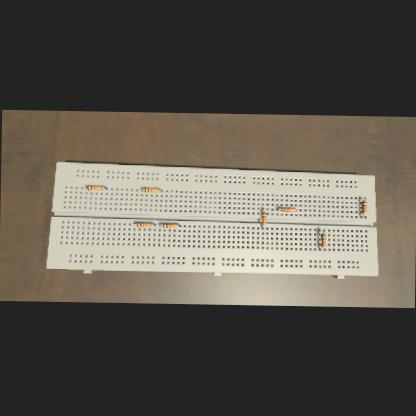breadboard: (46, 160, 380, 278)
resistor: (86, 184, 101, 190), (320, 233, 326, 247), (361, 200, 367, 213), (135, 222, 150, 226), (144, 187, 158, 191), (262, 211, 266, 225), (281, 207, 295, 210), (162, 223, 176, 226)
wire: (318, 230, 323, 233), (358, 196, 364, 198), (319, 247, 324, 249), (360, 214, 364, 216), (276, 208, 282, 209), (150, 223, 155, 224), (84, 186, 86, 188), (140, 188, 142, 190), (262, 208, 264, 210), (176, 224, 180, 225), (262, 225, 264, 227), (158, 223, 161, 224), (132, 223, 134, 224), (102, 188, 107, 188), (158, 190, 162, 190)
